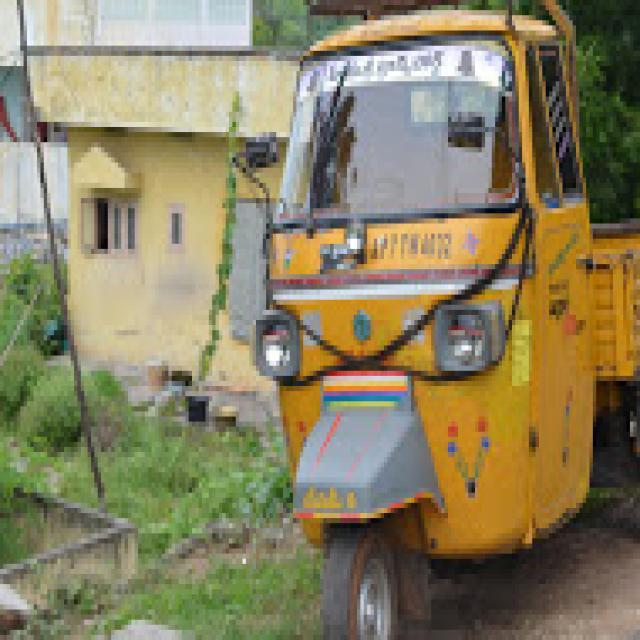auto_front: (240, 16, 630, 636)
